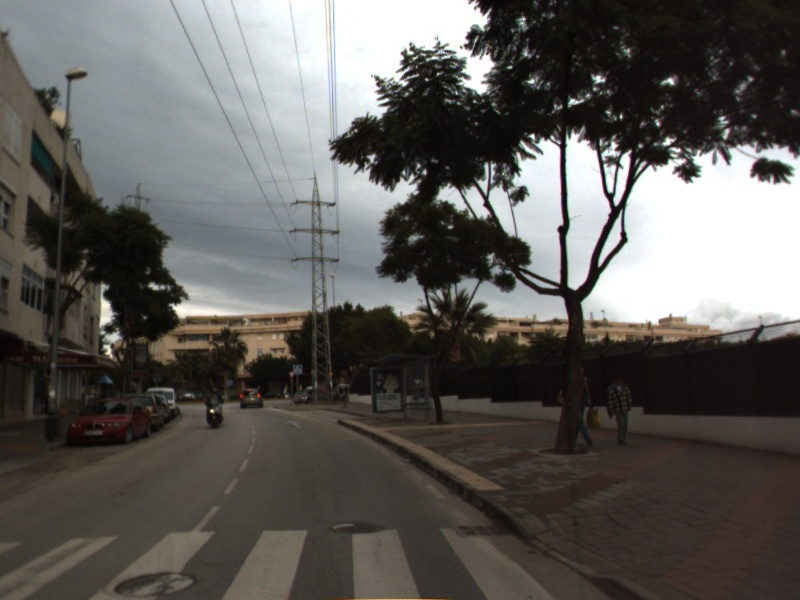STRAIGHT: (283, 418, 304, 430)
